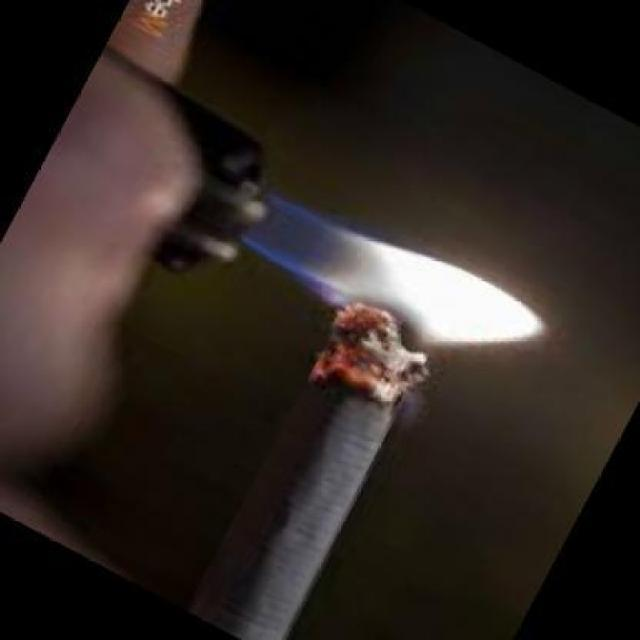fire: (246, 196, 543, 342)
